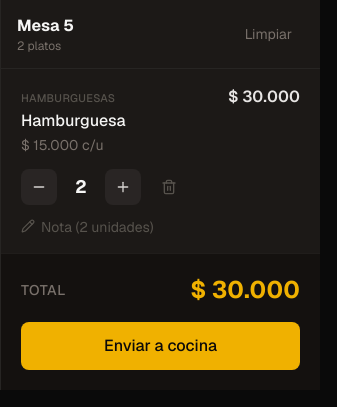
OrderSummary — clear cart › shows confirmation on first click
This screenshot has width=337, height=407.
Click the button "Limpiar".
click(268, 34)  # box top-left (233, 16), bottom-right (304, 52)
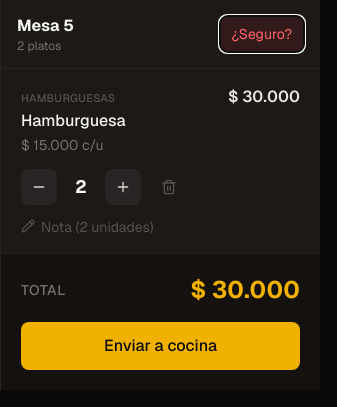
Check: the button "¿Seguro?" is shown, box top-left (220, 16), bottom-right (304, 52)
